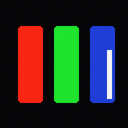4 line_v: (107, 50, 111, 98)
